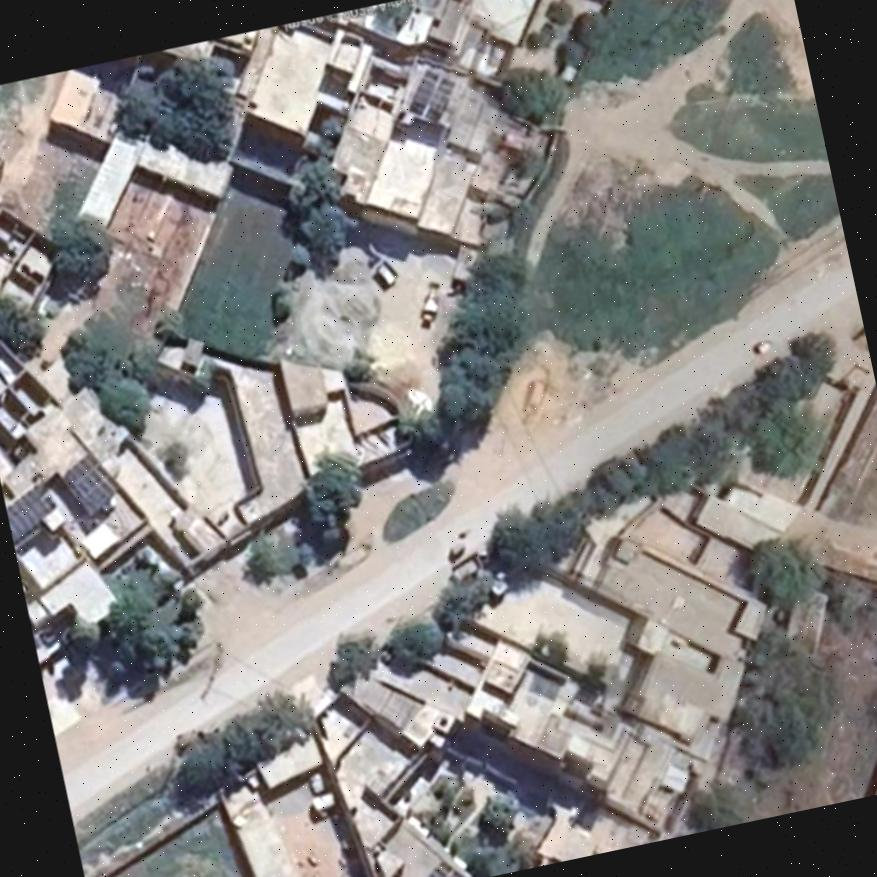Solarpanel: (62, 453, 117, 510), (5, 483, 51, 539), (411, 69, 454, 110), (427, 859, 466, 877)
